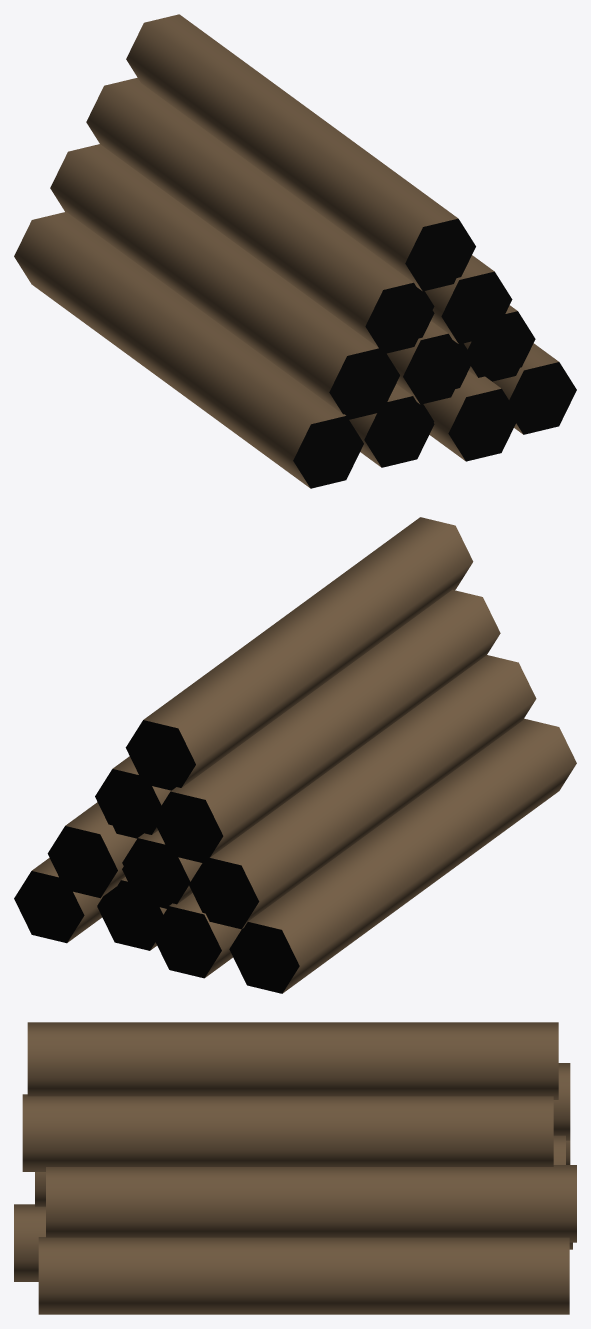
The model's file is logs.fbx.
3 renders of one model, top to bottom at view 1: azimuth 30°, elevation 25°; view 2: azimuth 150°, elevation 25°; view 3: azimuth 270°, elevation 25°, orthographic. The views are drawn at different scales.
Parts seen in each view (by area): view 1: logs; view 2: logs; view 3: logs.
Boxes of the visible parts, x1=… form: logs: x1=14, y1=14, x2=576, y2=488; logs: x1=14, y1=517, x2=576, y2=993; logs: x1=14, y1=1022, x2=576, y2=1314.
Size of the model in its own units: 242 by 193 by 434.
